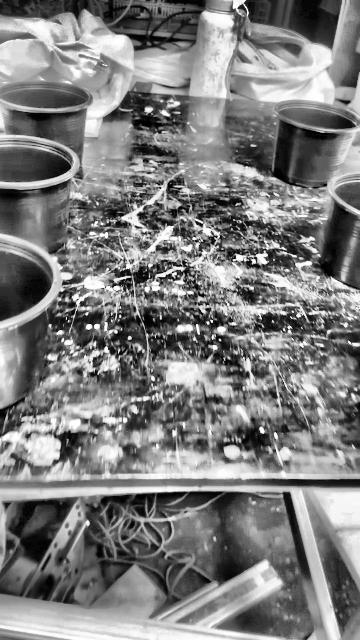pot: (0, 235, 61, 409), (0, 135, 79, 252), (272, 100, 360, 188), (0, 81, 92, 163), (321, 174, 360, 290)
